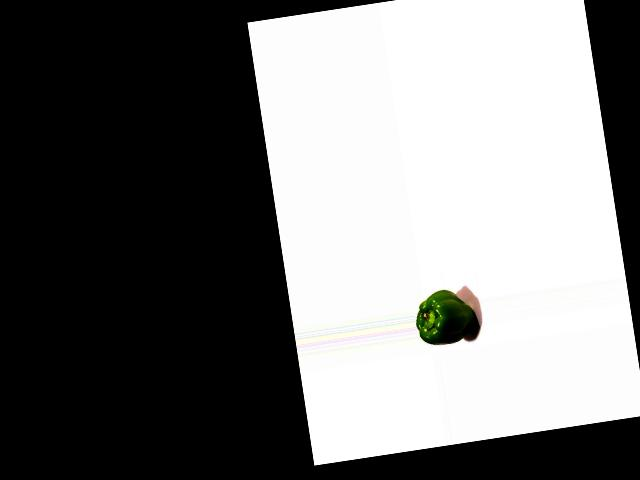bell_pepper: (412, 283, 481, 349)
